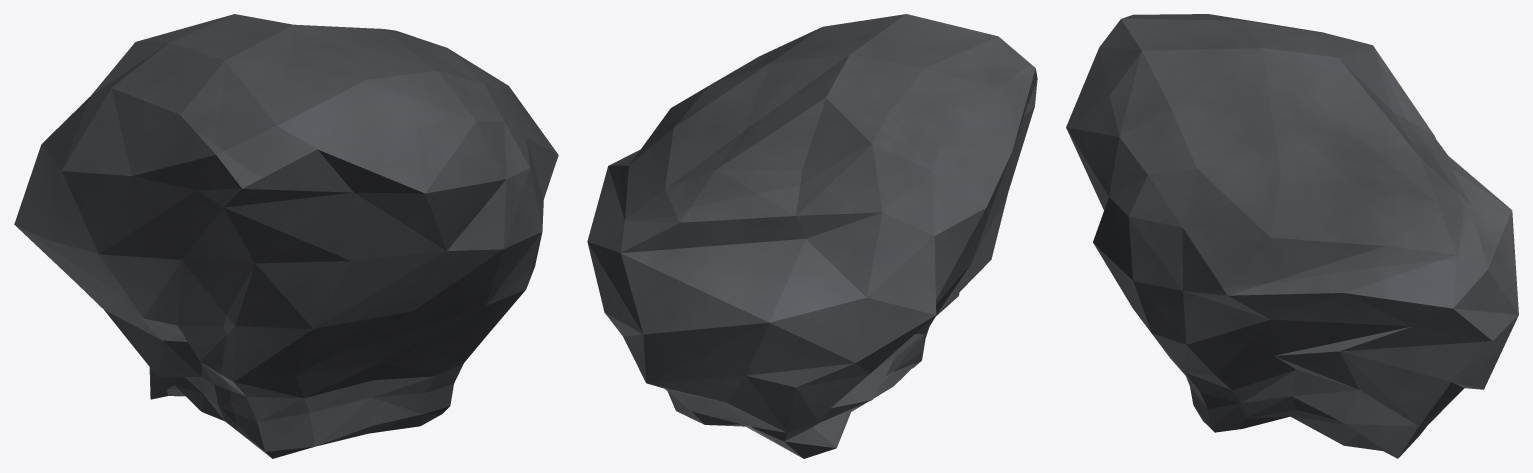
The model's file is Rock1.glb.
3 renders of one model, left to right at view 1: azimuth 30°, elevation 25°; view 2: azimuth 150°, elevation 25°; view 3: azimuth 270°, elevation 25°, orthographic. The views are drawn at different scales.
Parts seen in each view (by area): view 1: Rock1; view 2: Rock1; view 3: Rock1.
Boxes of the visible parts, x1,y1,x2,y2 form: Rock1: [14, 14, 558, 458]; Rock1: [587, 14, 1037, 458]; Rock1: [1066, 14, 1518, 458].
Bounding box in the file's own units: 2.46 × 2.22 × 2.52.
1 material, 1 textured.
